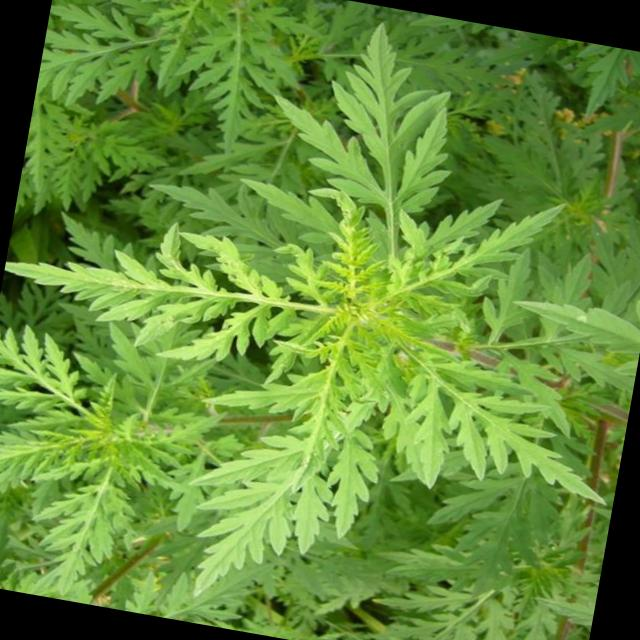ambrosia: (63, 65, 622, 552)
